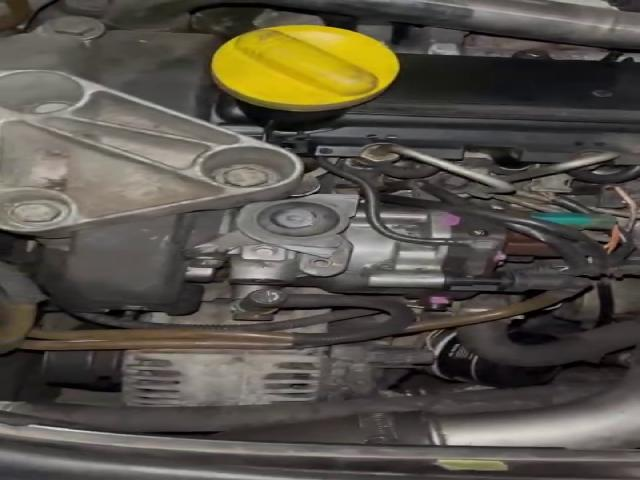alternator: (121, 348, 325, 407)
high_pressure_pump: (232, 210, 512, 310)
